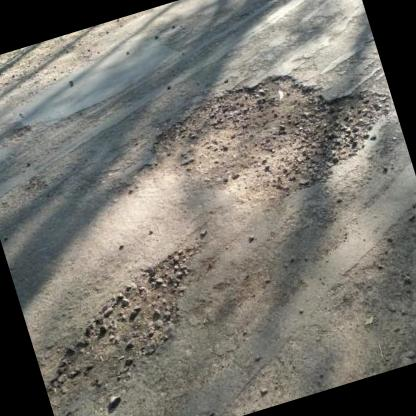pothole: (128, 41, 409, 236), (18, 242, 230, 406)
